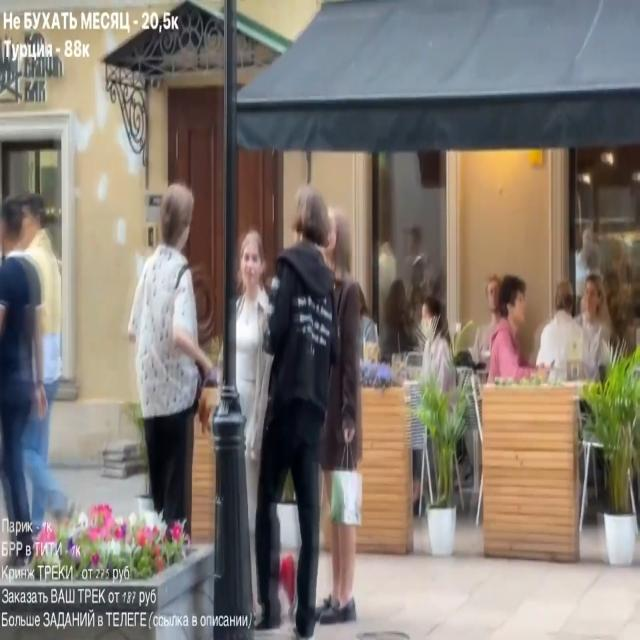Person: (261, 199, 349, 626), (126, 194, 216, 550), (1, 186, 74, 568), (488, 274, 536, 381), (537, 282, 588, 379)
